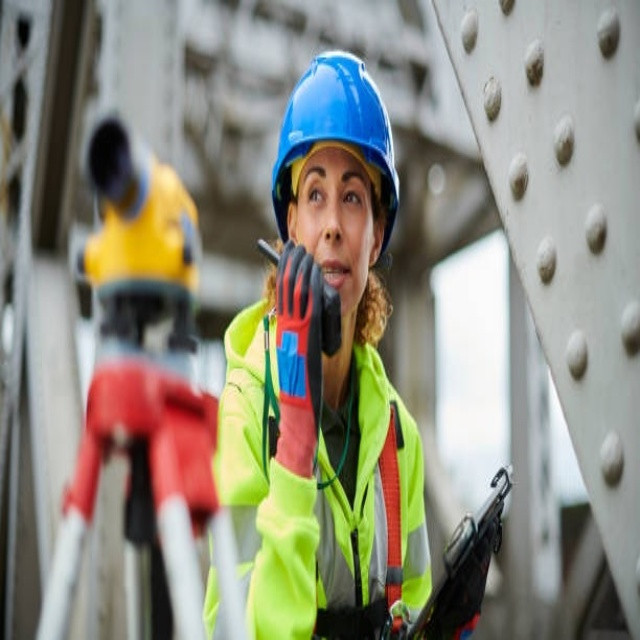Guantes: (272, 238, 328, 478)
Sin_gafas: (300, 162, 368, 224)
Sin_mascara: (319, 261, 351, 287)
